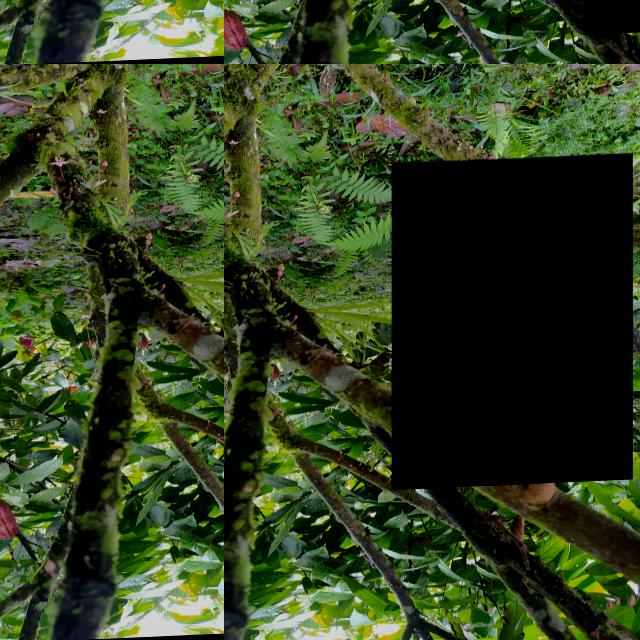Sana: (392, 158, 632, 492)
